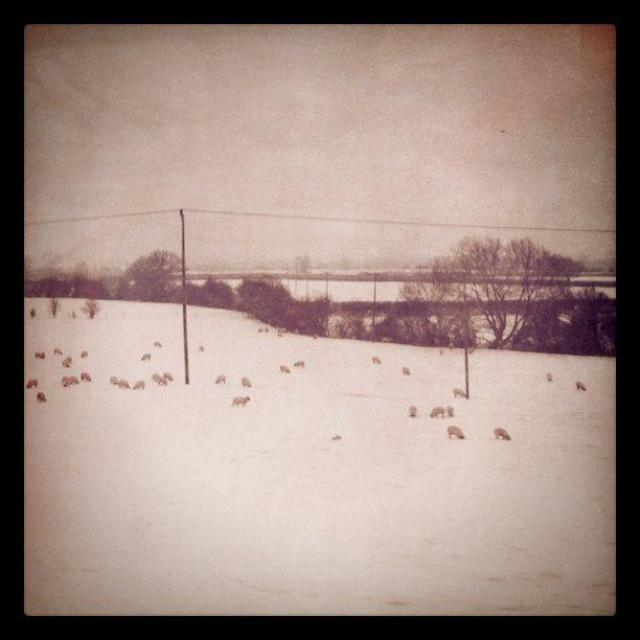Sheep: (1, 112, 588, 476)
